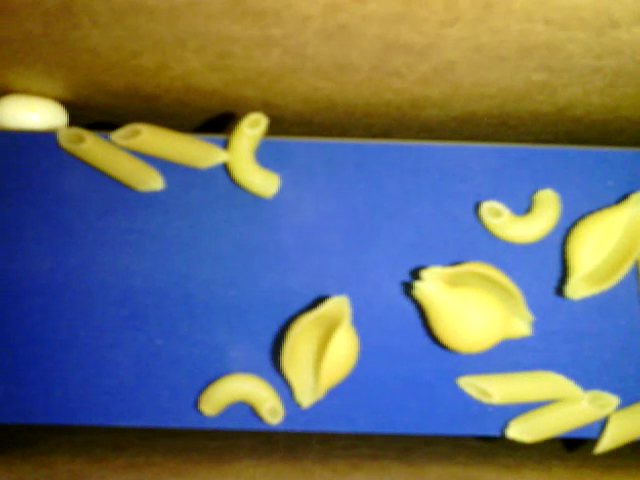elbow: (225, 112, 281, 200), (479, 187, 561, 245), (198, 373, 285, 423)
penne: (55, 126, 165, 194), (506, 387, 619, 444), (109, 121, 227, 170), (454, 368, 584, 405), (593, 401, 639, 456)
shell: (410, 259, 536, 355), (280, 294, 357, 410), (563, 188, 639, 302)
